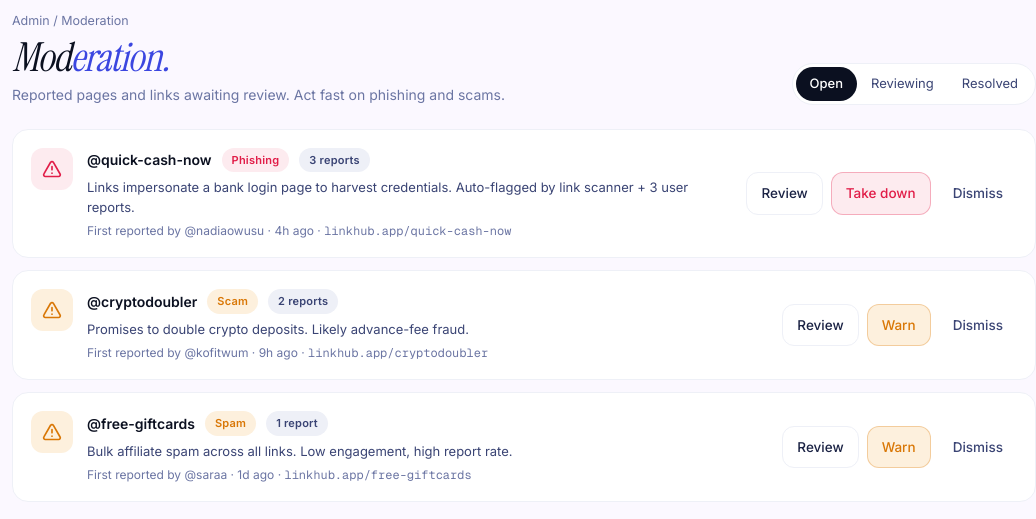
Test: ModerationClient › shows an empty state for a queue with no reports
Expected: the text "@quick-cash-now" is shown, [87,150,212,170]
Click the button "Resolved" at (990, 84), box [948,67,1032,101]
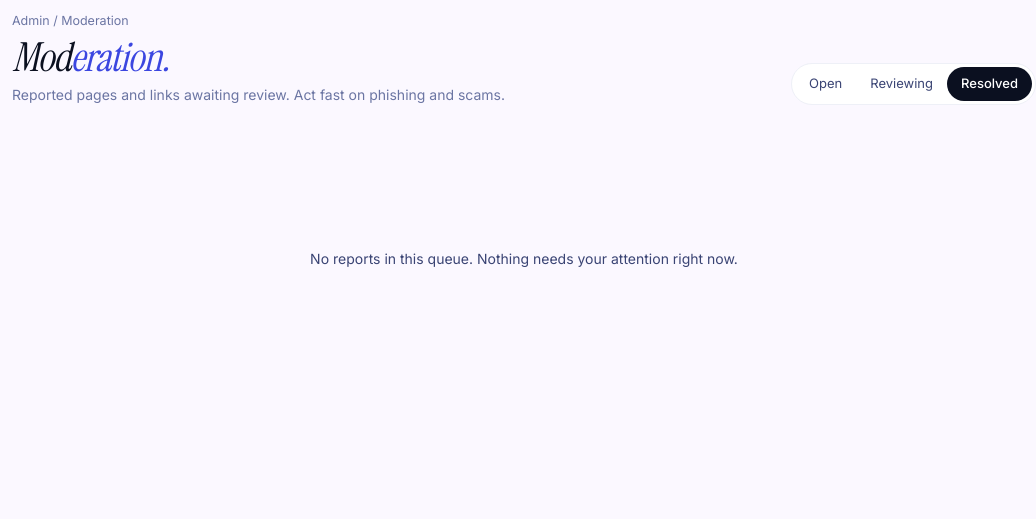
Expected: the text "No reports in this queue" is shown, [310,250,738,267]
